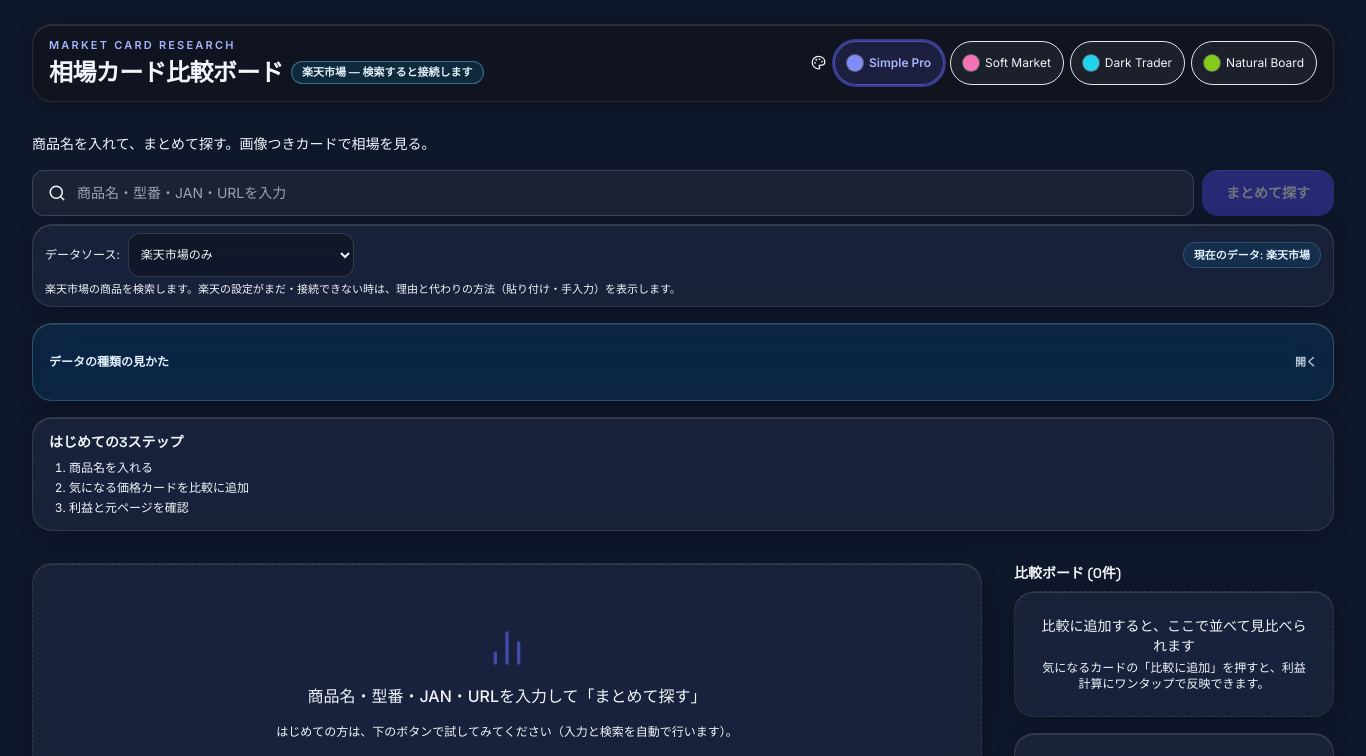
Test: AppShell › 0件の検索結果でも「手動で追加」から登録できる
This screenshot has width=1366, height=756.
Step 1. Type "Walkman" into the field labelled "商品名・型番・JAN・URL" → (613, 193), box top-left (32, 170), bottom-right (1194, 216)
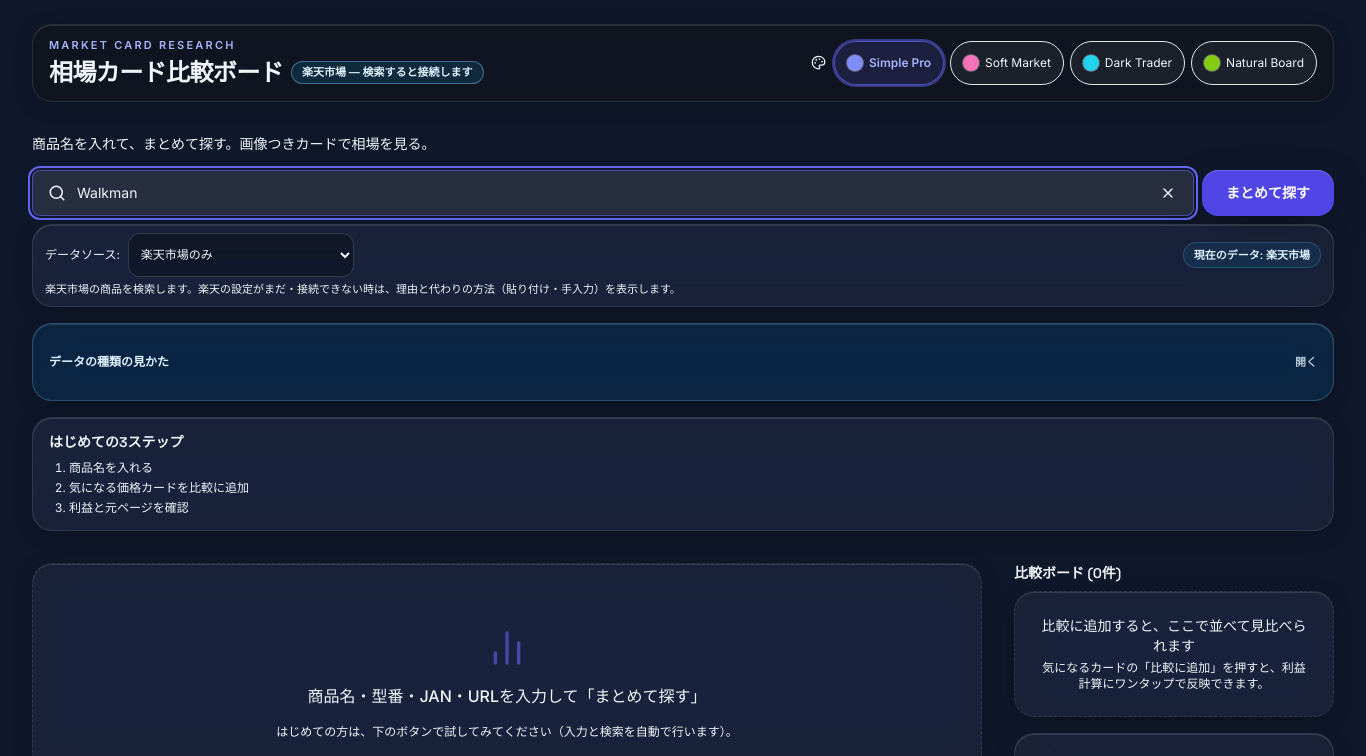
Step 2. Click the button "まとめて探す" → (1268, 193), box top-left (1202, 170), bottom-right (1334, 216)
(page scrolled)
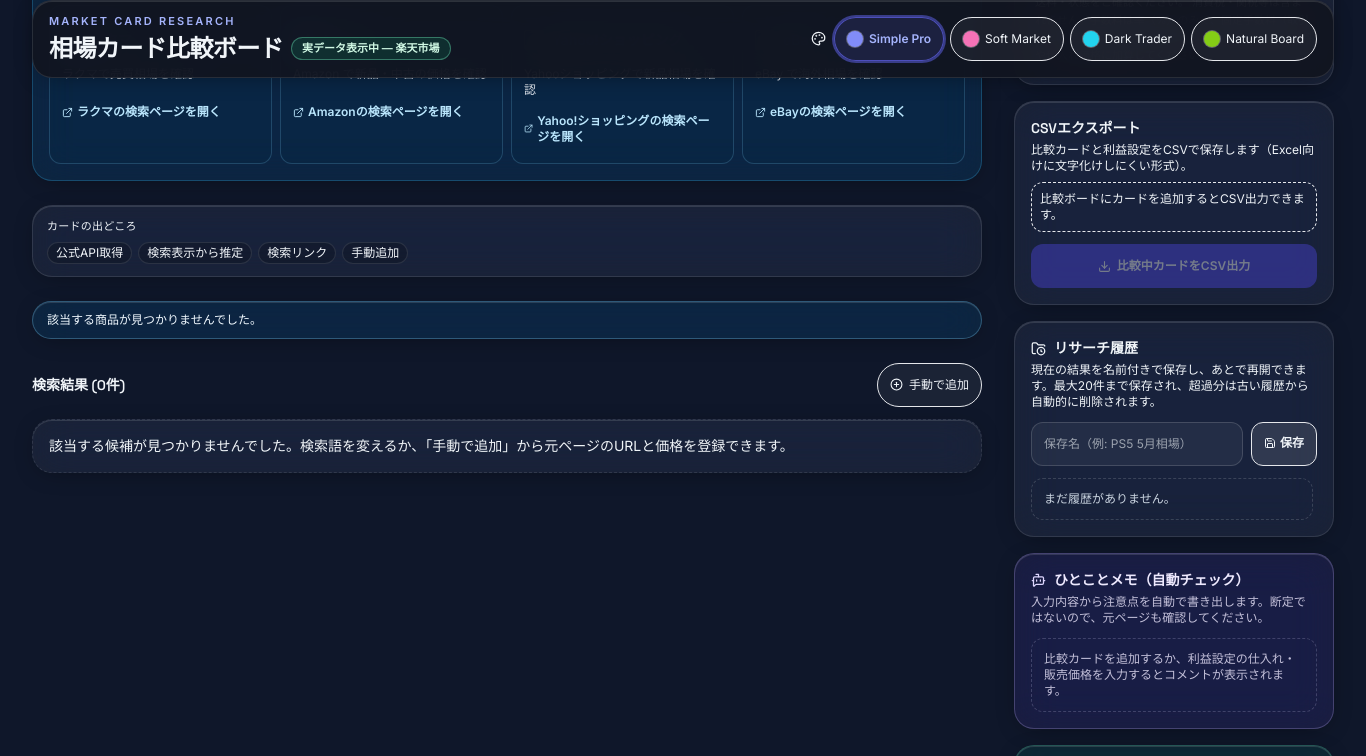
Step 3. Click the button "手動で追加" → (930, 385), box top-left (877, 363), bottom-right (982, 407)
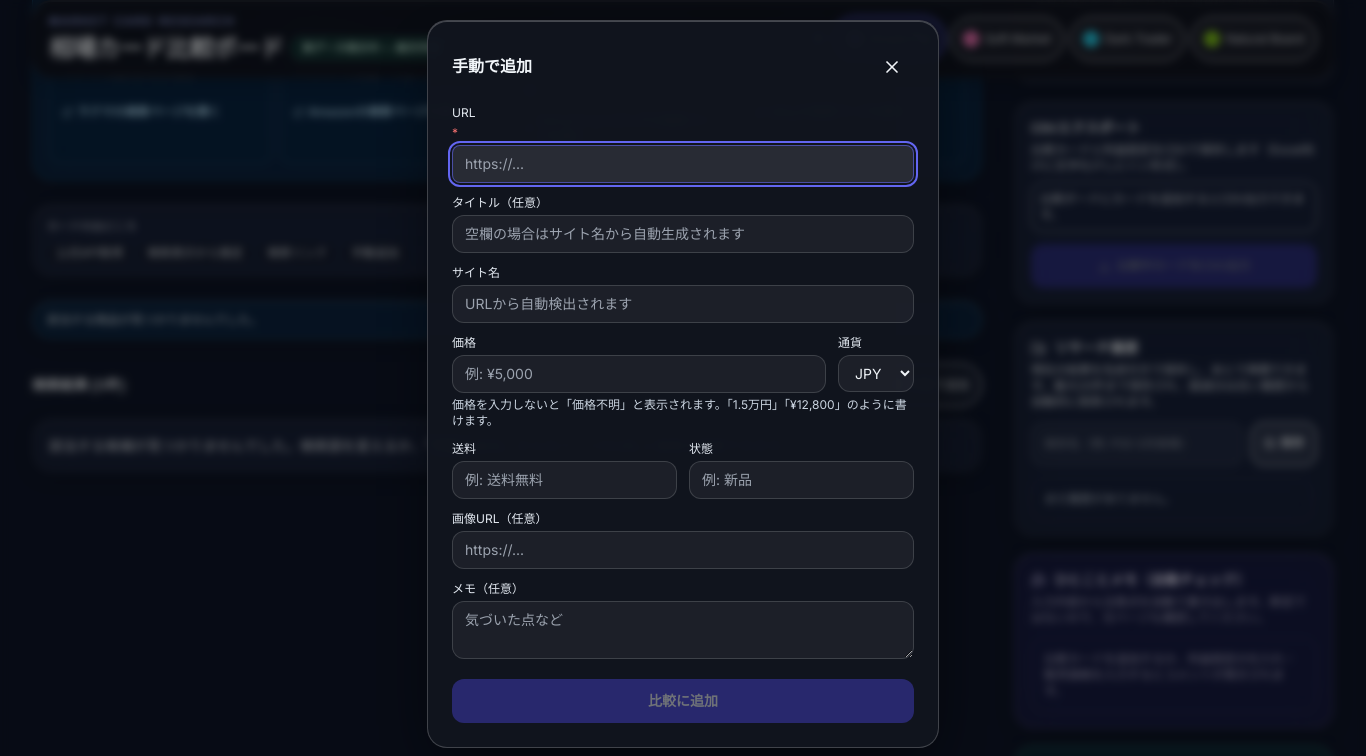
Expected: the dialog "手動で追加" is shown, top-left (427, 20), bottom-right (939, 748)
